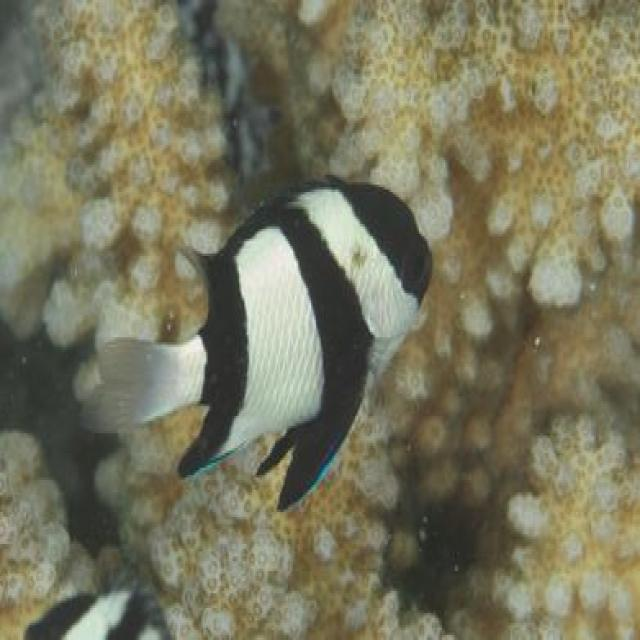ThreeStripedDamselfish: (101, 180, 434, 514)
